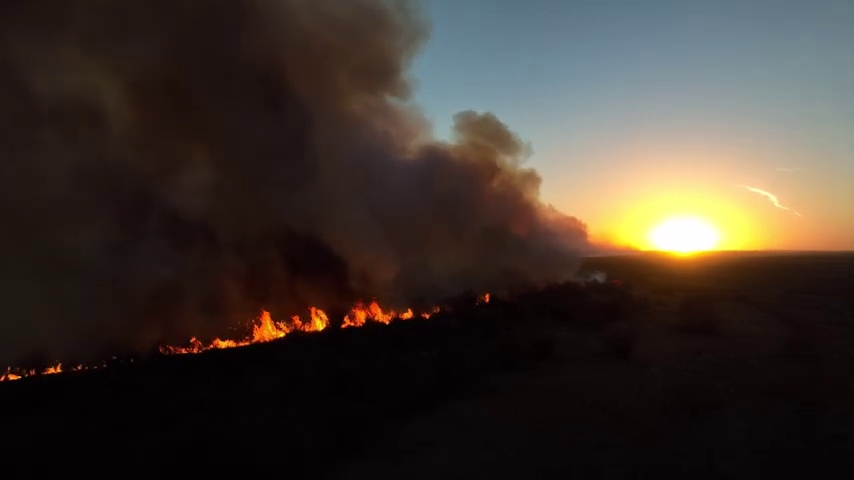forest_fire: (162, 307, 330, 354), (341, 300, 442, 327), (0, 363, 63, 380)
